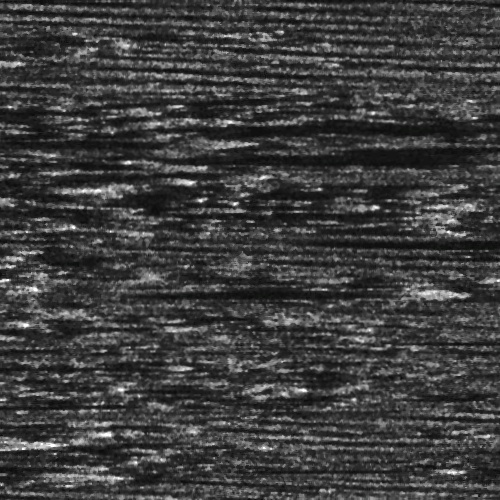object: (0, 178, 158, 195), (0, 432, 82, 449), (38, 466, 143, 479), (5, 276, 78, 293), (39, 459, 132, 470), (0, 220, 110, 229), (152, 136, 257, 145), (109, 398, 202, 407), (136, 157, 219, 166), (390, 208, 453, 217), (390, 292, 453, 297), (151, 361, 204, 366), (482, 152, 500, 163), (411, 467, 474, 470)
shadow: (228, 120, 500, 133), (262, 152, 500, 163), (193, 208, 421, 217), (16, 136, 204, 145), (0, 398, 155, 407), (0, 178, 74, 195), (185, 292, 421, 297), (0, 466, 90, 479), (0, 459, 85, 470), (0, 361, 178, 366), (81, 157, 177, 166), (423, 131, 500, 142), (387, 238, 500, 245), (0, 276, 42, 293), (256, 467, 443, 470), (334, 227, 426, 232), (0, 220, 48, 229), (457, 254, 500, 259)
